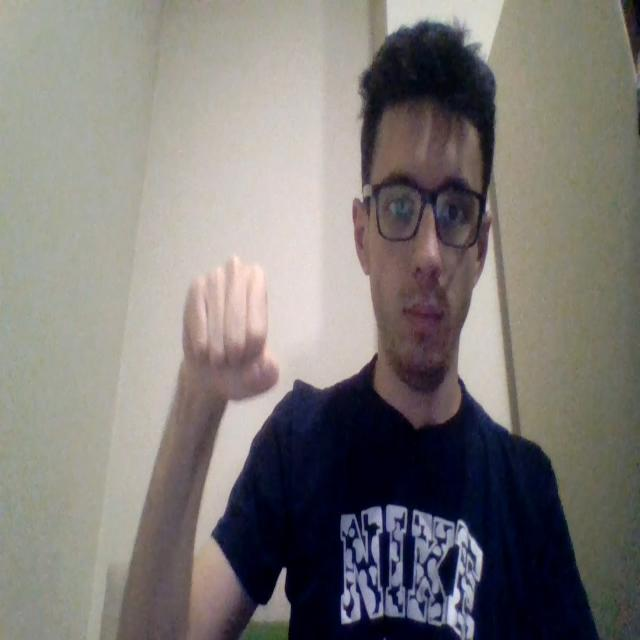yes: (181, 253, 279, 403)
